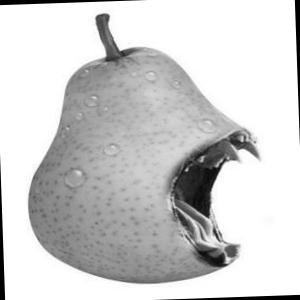fruit: (16, 22, 262, 288)
